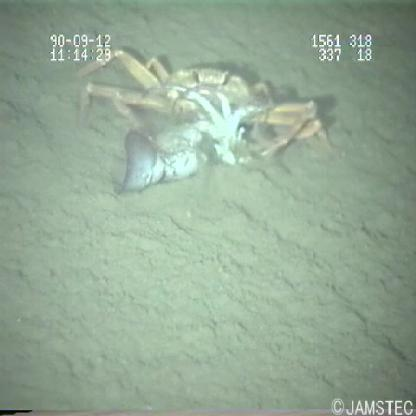Bio: (64, 43, 343, 199)
